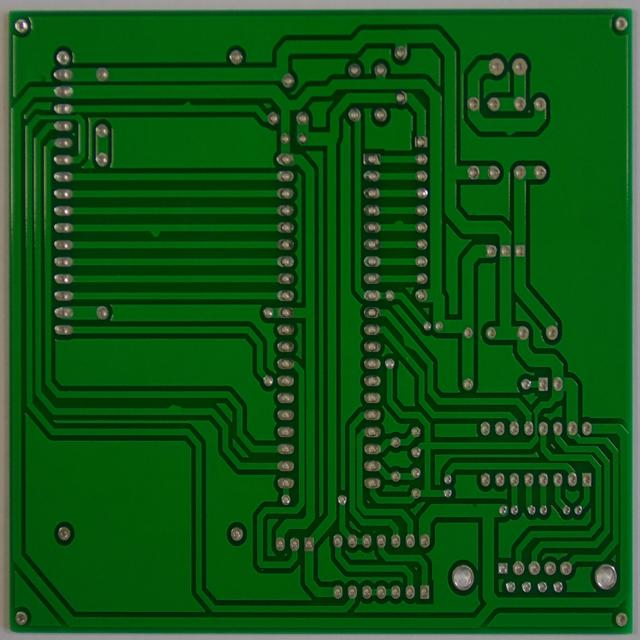spur: (396, 329, 419, 353), (142, 220, 165, 241), (177, 96, 196, 114), (389, 216, 409, 233), (499, 122, 520, 137)
